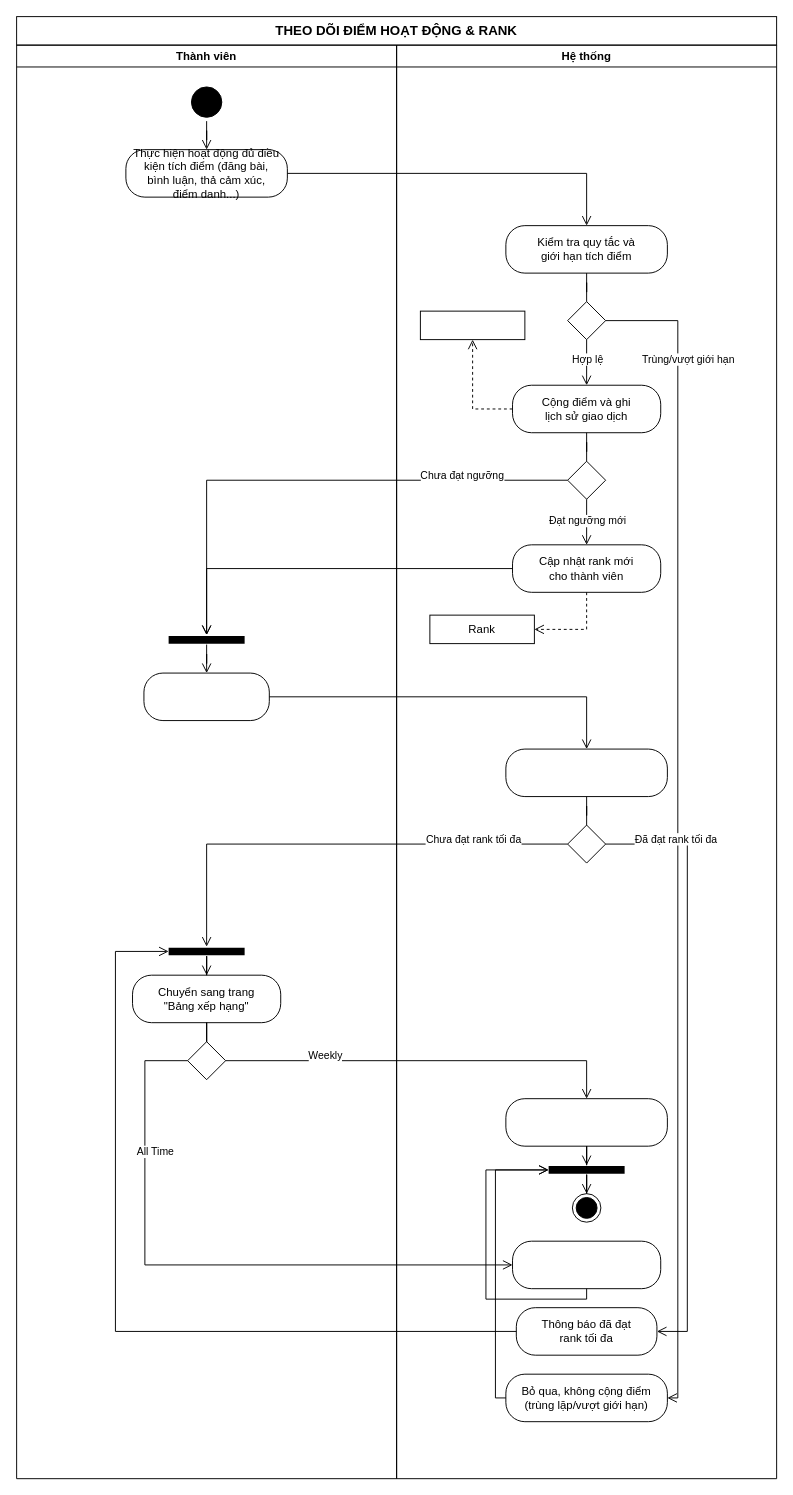
Some shapes in this 793 by 1495 pixel diagram are drawn without their labels. Each missing label, with the box of its shape:
Hiển thị tổng điểm, rank, tiến độ lên rank và lịch sử tích điểm: (505, 748, 667, 797)
Hiển thị xếp hạng toàn thời gian: (512, 1240, 661, 1289)
Hiển thị xếp hạng tuần hiện tại (từ thứ Hai): (505, 1098, 667, 1146)
PointTransaction: (419, 310, 525, 340)
Truy cập trang "Điểm của tôi": (143, 672, 269, 721)
